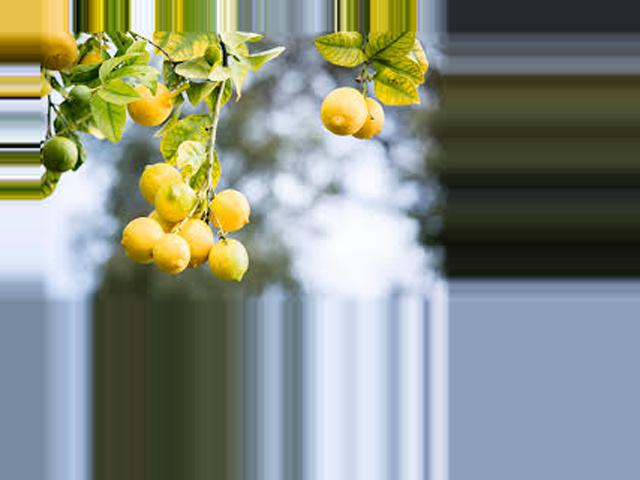lemon: (123, 214, 168, 273)
